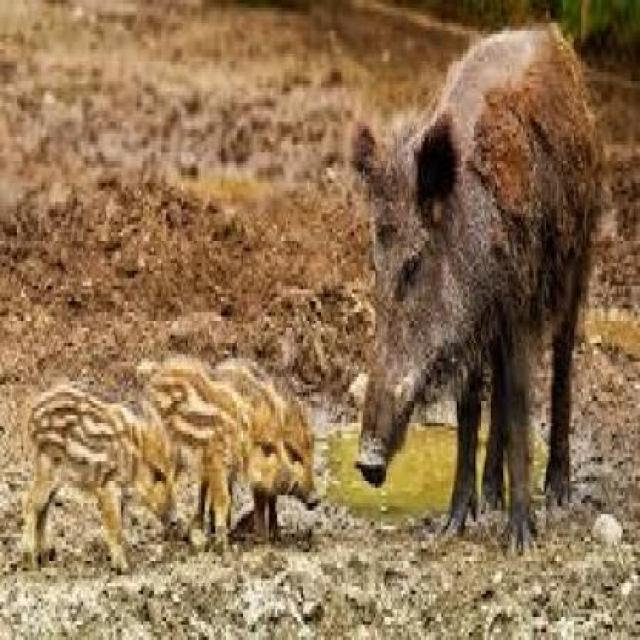wildboar: (343, 18, 605, 559), (136, 342, 302, 543), (24, 367, 188, 564), (198, 346, 324, 546)
